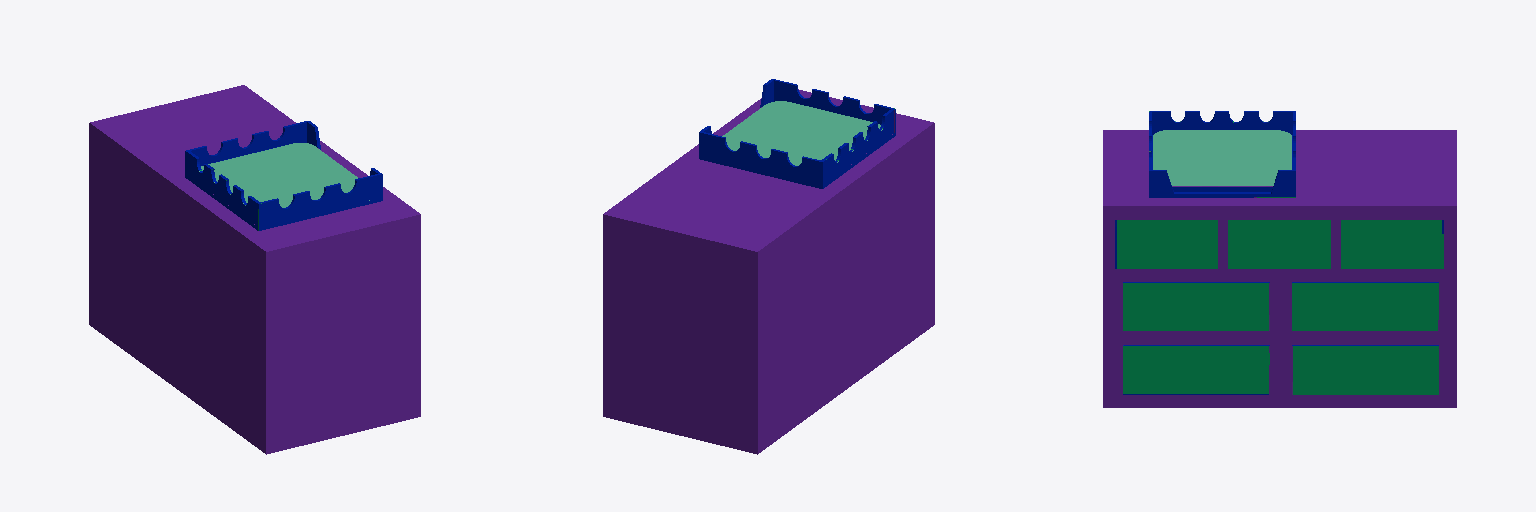
The picture shows the model from 3 angles: view 1: azimuth 30°, elevation 25°; view 2: azimuth 150°, elevation 25°; view 3: azimuth 270°, elevation 25°; orthographic projection.
Visible parts, largest first — view 1: Cube.019; view 2: Cube.019; view 3: Cube.019.
Part boxes in pixels (bbox=[...]): Cube.019: bbox=[89, 85, 420, 454]; Cube.019: bbox=[603, 79, 934, 454]; Cube.019: bbox=[1103, 111, 1456, 407].
Size of the model in its own units: 8.72 by 12.24 by 17.1.
1 materials, 1 textured.